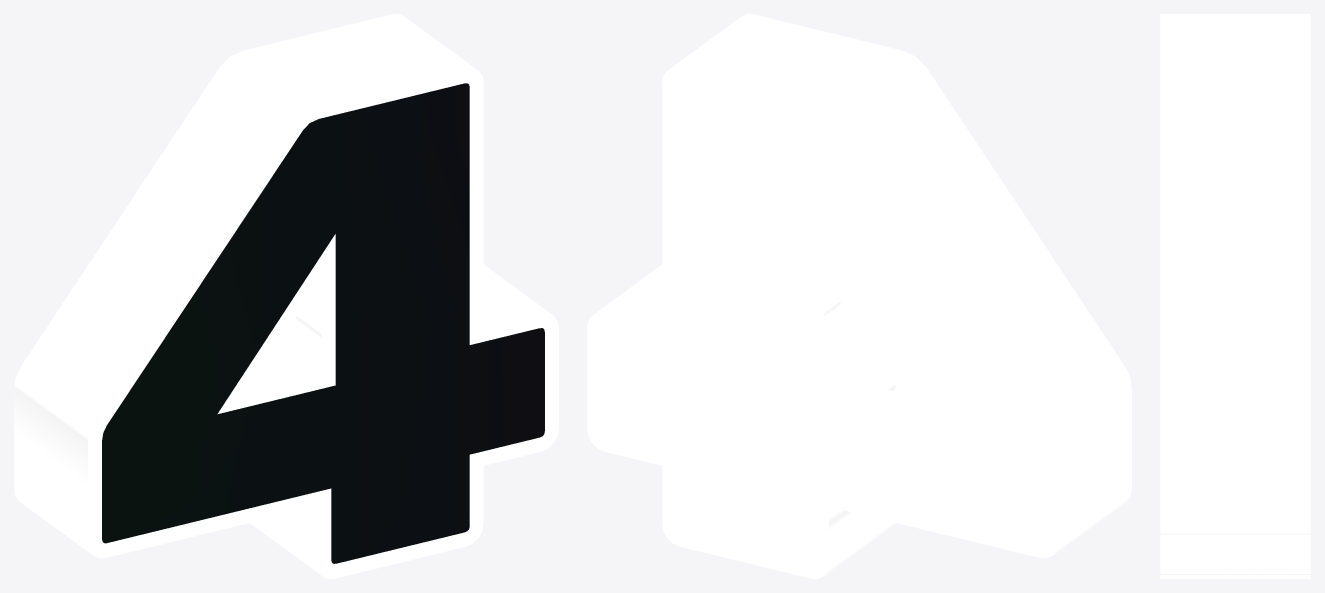
The model's file is number_4.glb.
3 views of the same model, side by side, from view 1: azimuth 30°, elevation 25°; view 2: azimuth 150°, elevation 25°; view 3: azimuth 270°, elevation 25° (orthographic).
Parts seen in each view (by area): view 1: number_4; view 2: number_4; view 3: number_4.
Part boxes in pixels (x1=…): number_4: x1=14, y1=14, x2=558, y2=578; number_4: x1=587, y1=14, x2=1131, y2=578; number_4: x1=1160, y1=14, x2=1310, y2=578.
Size of the model in its own units: 1.12 by 1.09 by 0.3052.
1 material, 1 textured.
